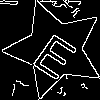E: (30, 24, 85, 82)
